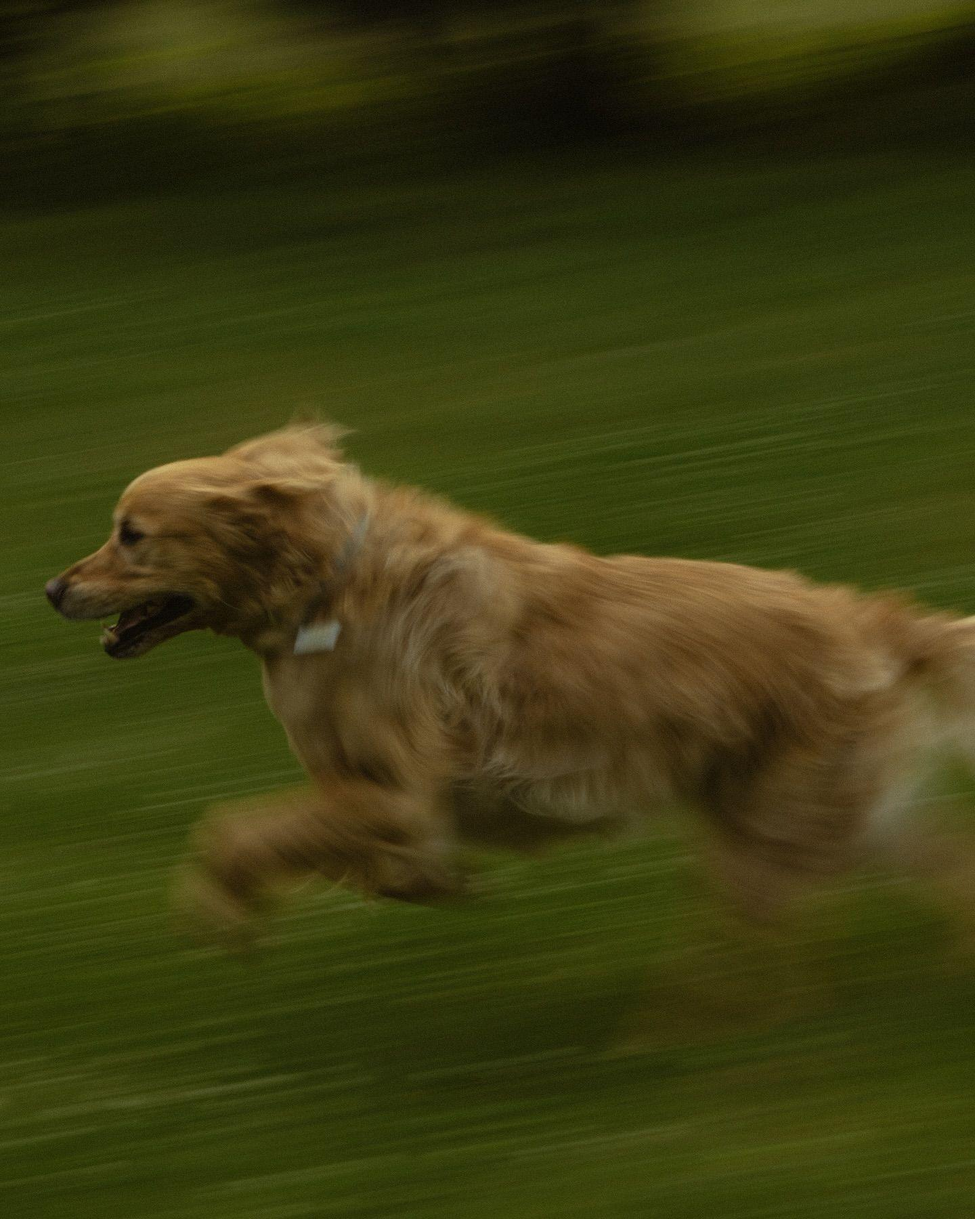adult_dog: (43, 408, 975, 1009)
